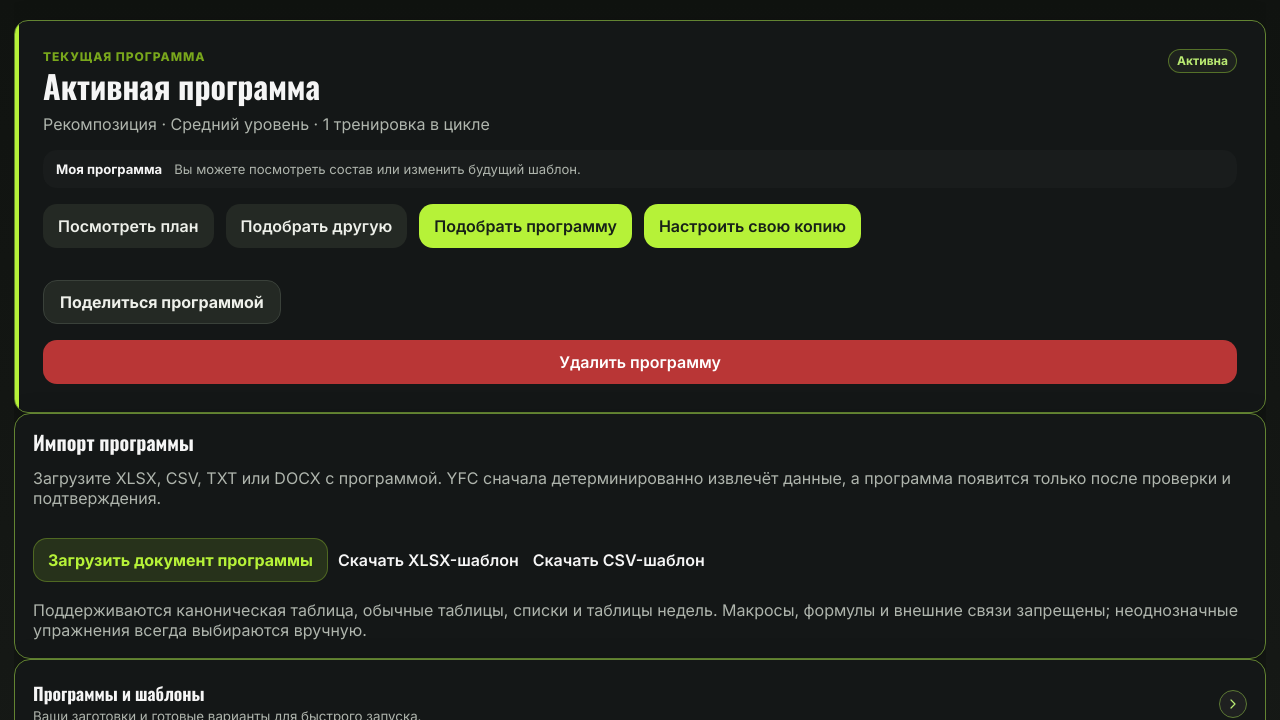
Test: TemplatesList editing › confirms assigned-program deletion and sends the assigned program id
Click the button "Удалить программу". click: (640, 362)
box: [43,340,1237,384]
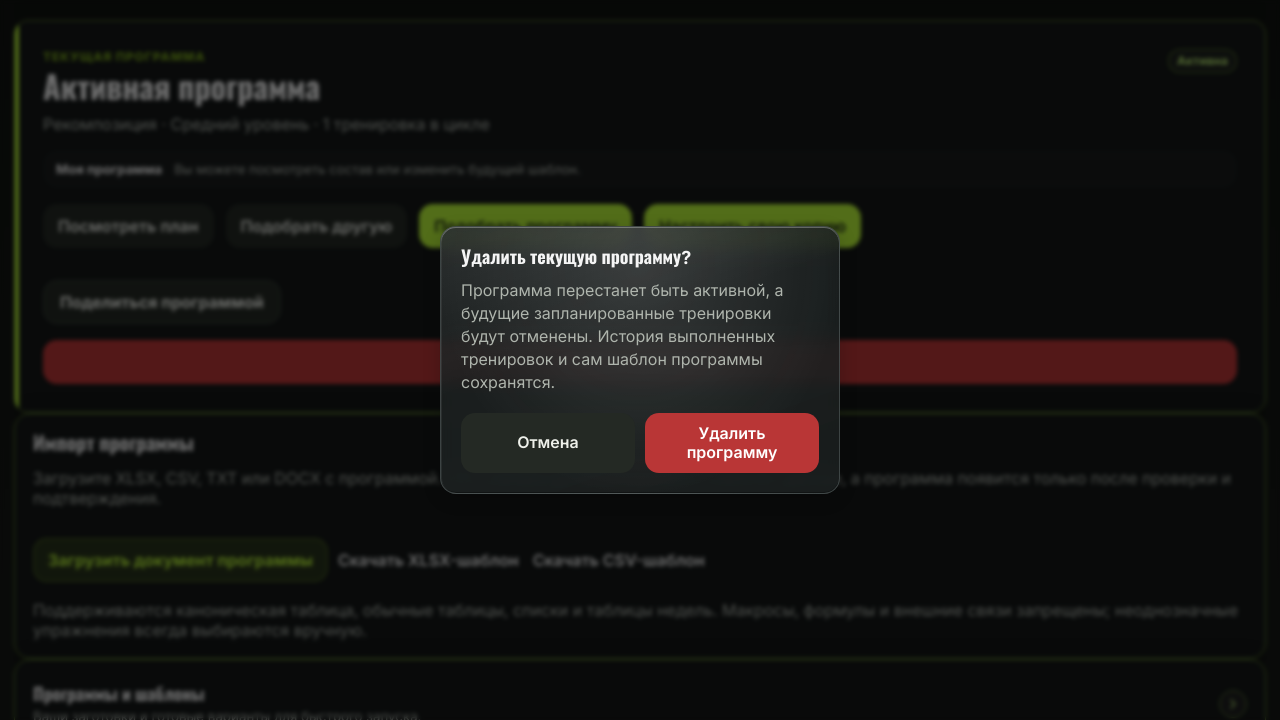
Result: the text "Программа перестанет быть активной, а будущие запланированные тренировки будут отменены. История выполненных тренировок " is shown at [461,280,784,392]
Click the button "Удалить программу". click: (732, 443)
box: [645,413,819,473]
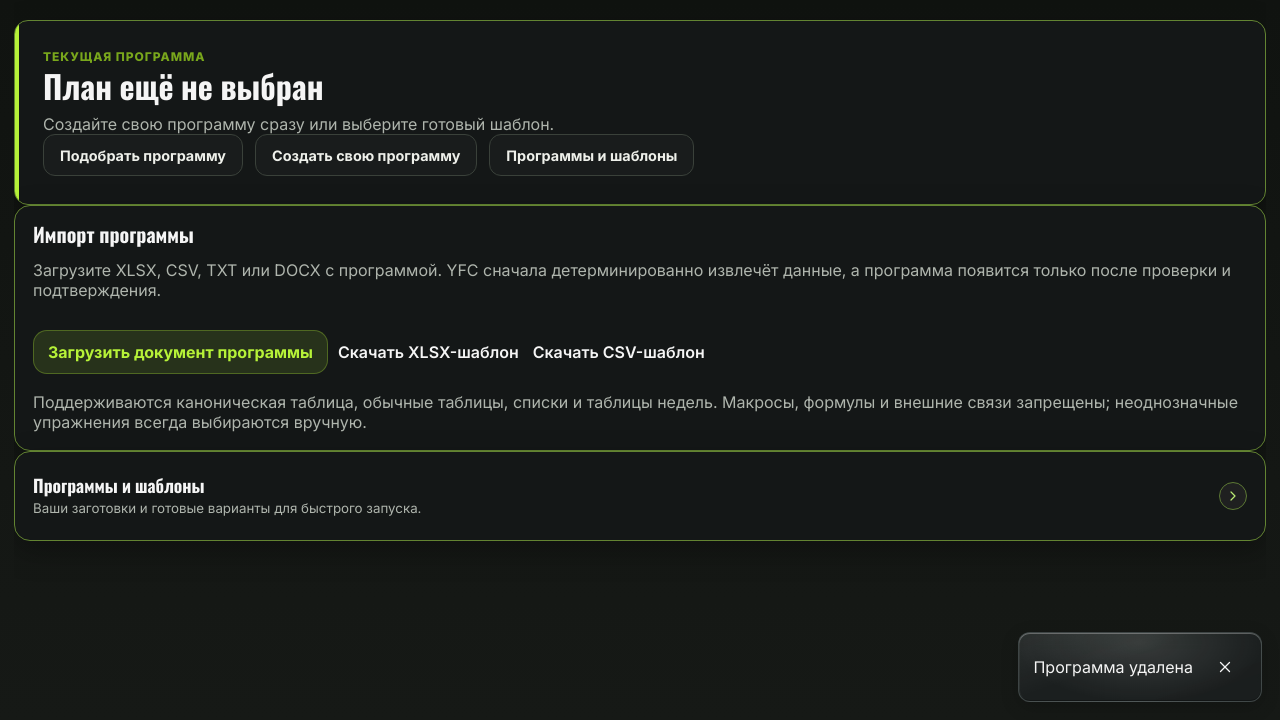
Result: the heading "План ещё не выбран" is shown at [43,69,324,108]
Result: the text "Программа удалена" is shown at [1033,657,1193,677]
